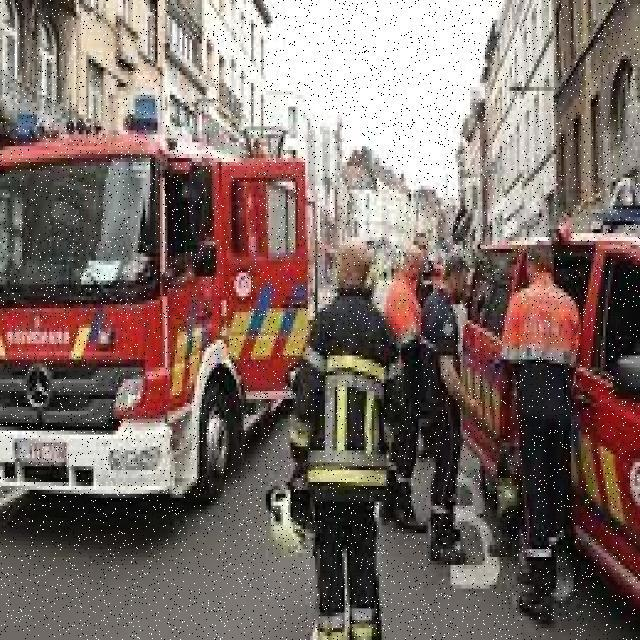pompier: (0, 104, 320, 556), (417, 132, 640, 639)
